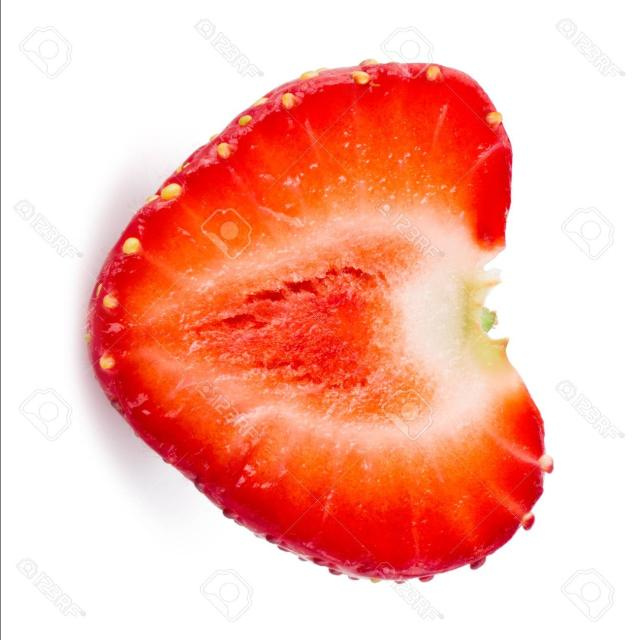strawberry: (64, 40, 567, 623)
